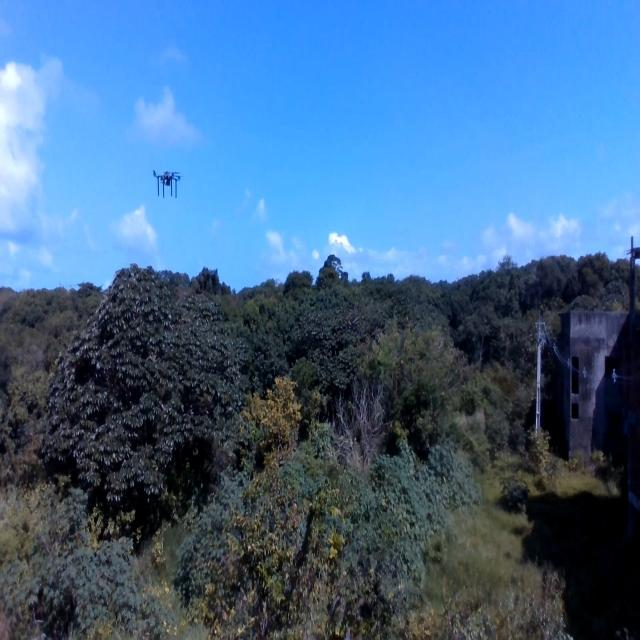-uav-: (151, 154, 185, 206)
